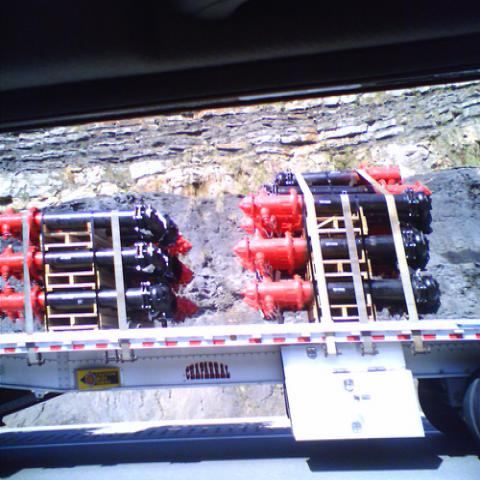truck: (0, 320, 478, 457)
